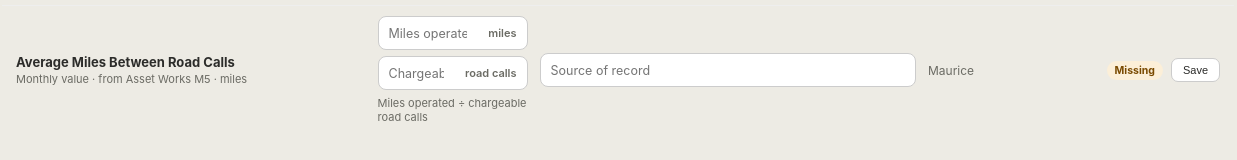
MetricRow for a ratio standard › cannot save until both parts and the source are in
Type "412300" into the number field named "Miles operated".
click(435, 33); type("412300")  # box [388, 20, 482, 46]
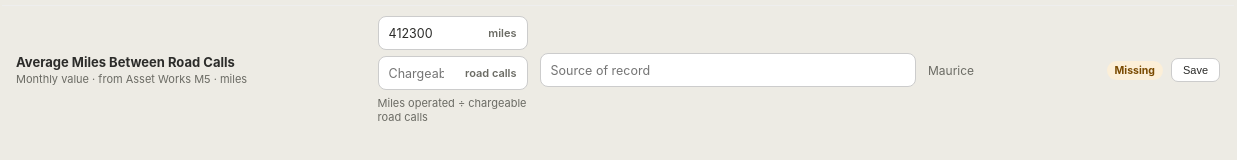
Type "M5" into the field labelled "Source of record".
click(728, 70); type("M5")  # box [540, 53, 916, 87]
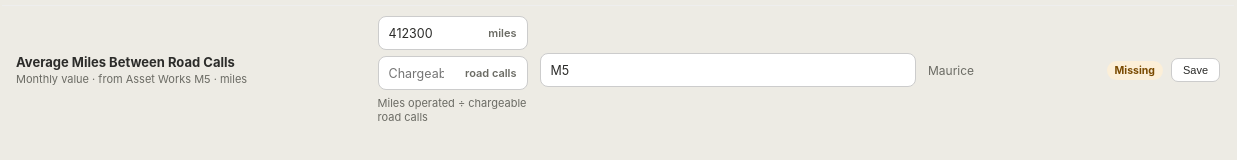
Check: the button "Save" is disabled, box [1171, 58, 1220, 82]
Type "31" into the number field named "Chargeable road calls".
click(424, 73); type("31")  # box [388, 60, 459, 86]
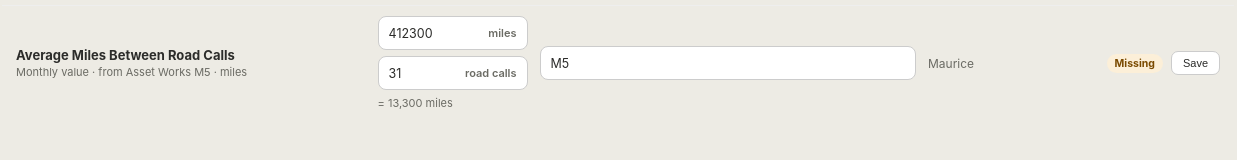
Check: the button "Save" is enabled, box [1171, 51, 1220, 75]
